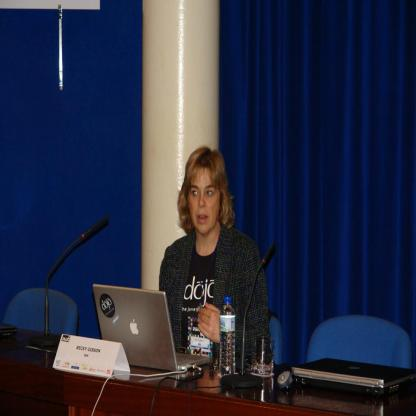board: (93, 281, 211, 371), (289, 356, 416, 397), (220, 296, 235, 378)
